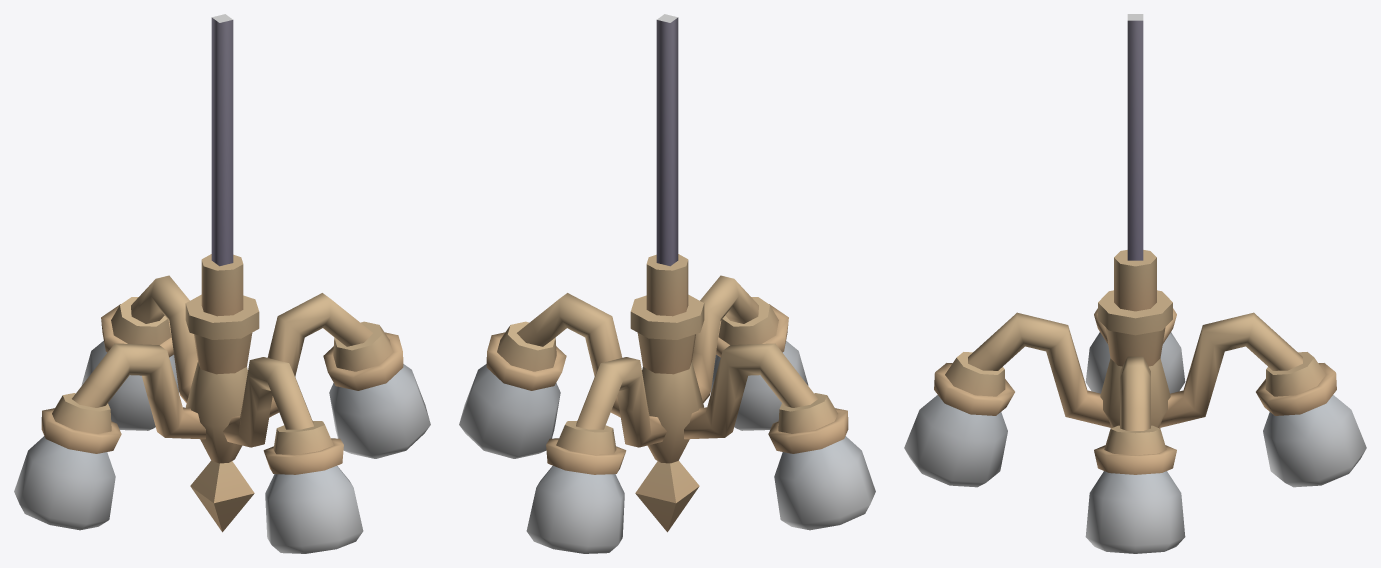
Rendered from chandelier-lamps (%ceiling).glb.
3 views of the same model, side by side, from view 1: azimuth 30°, elevation 25°; view 2: azimuth 150°, elevation 25°; view 3: azimuth 270°, elevation 25° (orthographic).
Visible parts, largest first — view 1: chandelier-lamps (%ceiling); view 2: chandelier-lamps (%ceiling); view 3: chandelier-lamps (%ceiling).
Part boxes in pixels (x1,y1,x2,y2): chandelier-lamps (%ceiling): [14, 14, 430, 553]; chandelier-lamps (%ceiling): [459, 14, 875, 553]; chandelier-lamps (%ceiling): [904, 14, 1366, 553].
Size of the model in its own units: 0.7434 by 0.8995 by 0.7434.
